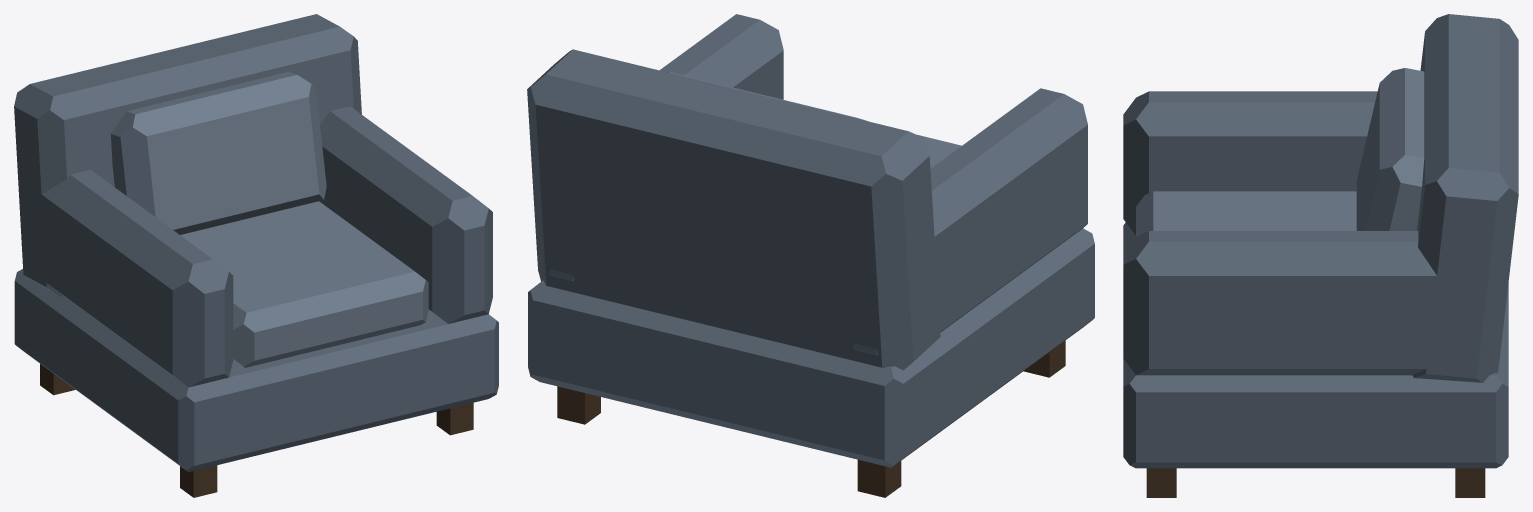
The model's file is fauteuil.glb.
3 views of the same model, side by side, from view 1: azimuth 30°, elevation 25°; view 2: azimuth 150°, elevation 25°; view 3: azimuth 270°, elevation 25° (orthographic). The views are drawn at different scales.
Visible parts, largest first — view 1: base, arm_l, back, pillow, seat, arm_r, feet; view 2: back, base, arm_l, arm_r, feet; view 3: arm_r, base, back, arm_l, pillow, seat, feet.
Part boxes in pixels (<box>): base: <box>14,269,498,472</box>; arm_l: <box>24,169,233,387</box>; back: <box>14,14,361,296</box>; pillow: <box>111,72,326,234</box>; seat: <box>180,201,428,367</box>; arm_r: <box>320,106,492,323</box>; feet: <box>40,364,473,497</box>; back: <box>527,49,940,370</box>; base: <box>528,228,1094,467</box>; arm_l: <box>853,88,1087,355</box>; arm_r: <box>549,14,783,281</box>; feet: <box>557,340,1065,497</box>; arm_r: <box>1123,231,1500,375</box>; base: <box>1123,222,1508,468</box>; back: <box>1412,14,1518,382</box>; arm_l: <box>1123,91,1377,235</box>; pillow: <box>1356,68,1424,230</box>; seat: <box>1136,191,1356,236</box>; feet: <box>1146,468,1485,497</box>.
Size of the model in its own units: 0.95 by 0.8547 by 0.9234.
Materials: 3 (3 with a texture image).
